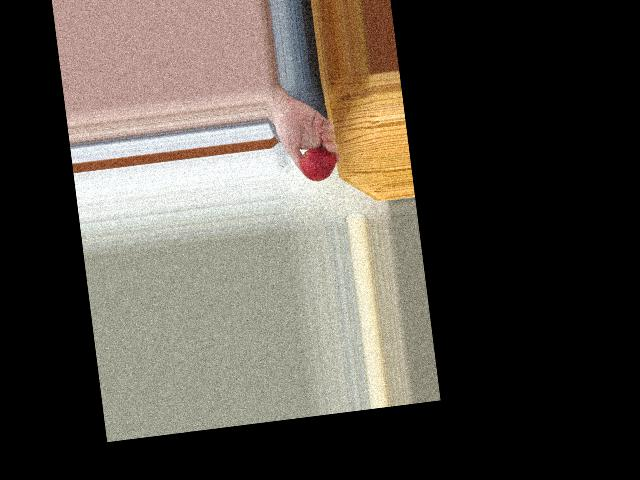apple: (298, 145, 336, 185)
